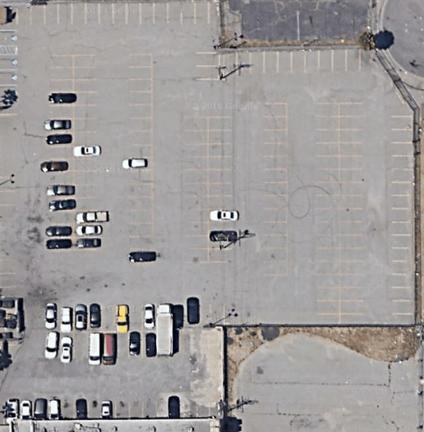parkingspot: (337, 102, 366, 327), (313, 102, 341, 328), (44, 53, 75, 253), (127, 53, 156, 265), (4, 399, 221, 426), (389, 115, 416, 329), (15, 0, 223, 27), (72, 53, 100, 252), (261, 101, 289, 279), (222, 47, 363, 77), (182, 115, 210, 265), (207, 116, 234, 265), (45, 301, 160, 334), (43, 331, 158, 363), (0, 176, 18, 299), (170, 299, 239, 329), (0, 53, 21, 116), (193, 51, 221, 81), (0, 29, 19, 47)
